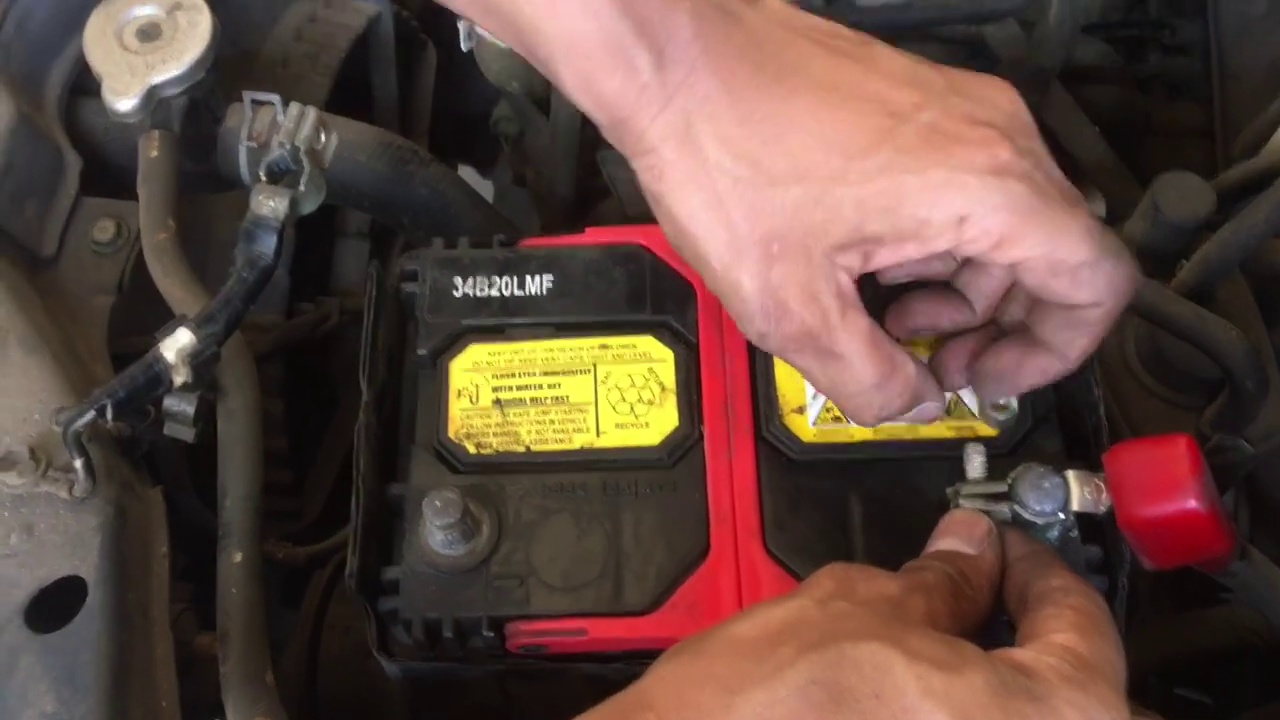battery: (403, 242, 1102, 652)
neg_disconnected: (404, 455, 502, 577)
pos_connected: (934, 425, 1213, 573)
pos_touched: (830, 244, 1156, 672)
